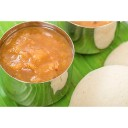idly: (72, 67, 128, 108), (104, 40, 128, 68)
